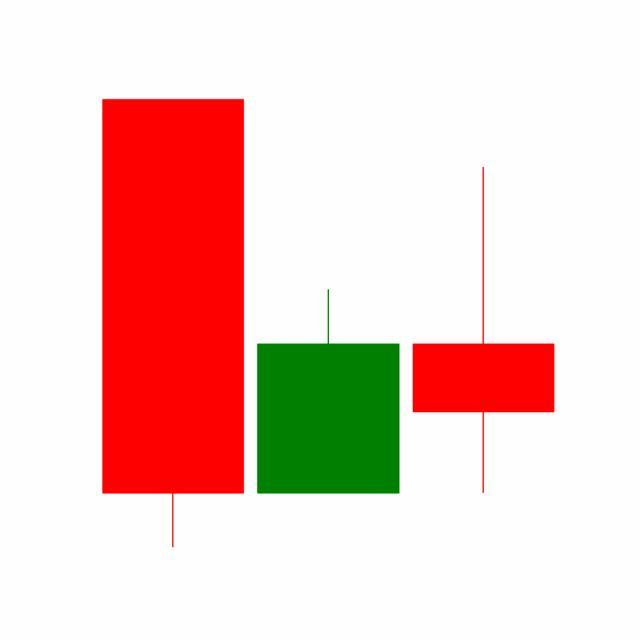Spinning Top: (406, 164, 562, 497)
